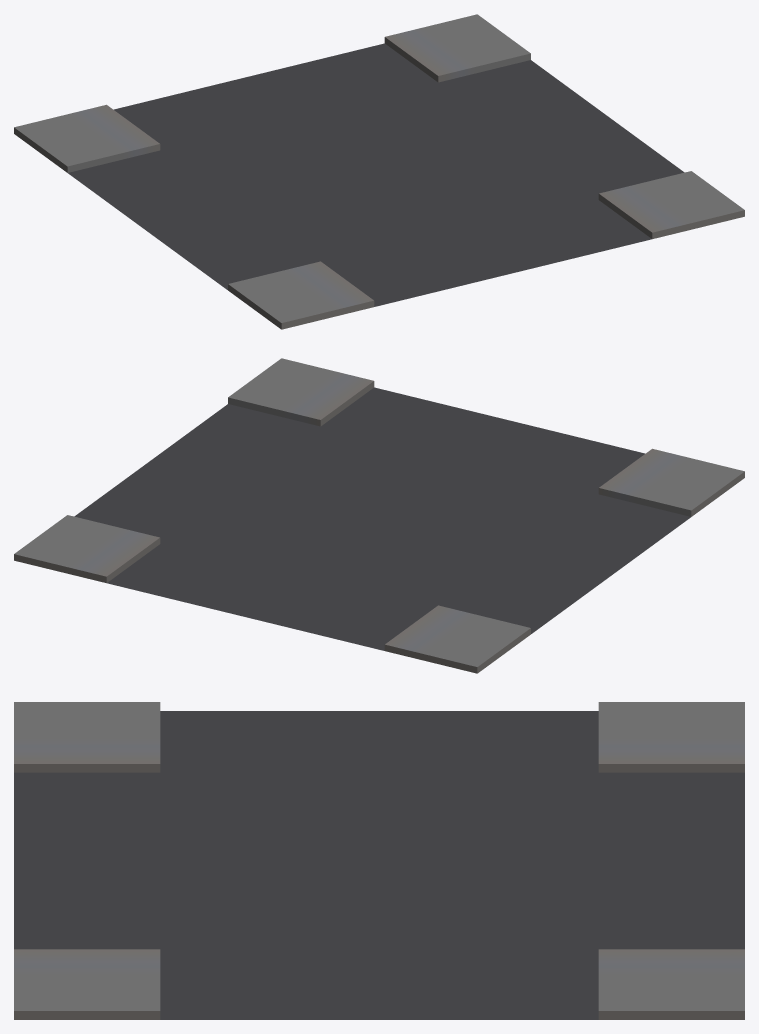
File: Crossroad.fbx
3 views of the same model, one above another, from view 1: azimuth 30°, elevation 25°; view 2: azimuth 150°, elevation 25°; view 3: azimuth 270°, elevation 25° (orthographic). The views are drawn at different scales.
Visible parts, largest first — view 1: Crossroad; view 2: Crossroad; view 3: Crossroad.
Part boxes in pixels (x1,y1,x2,y2): Crossroad: (14, 14, 744, 329); Crossroad: (14, 358, 744, 673); Crossroad: (14, 702, 744, 1019).
Bounding box in the file's own units: 1000 × 13.49 × 1000.
